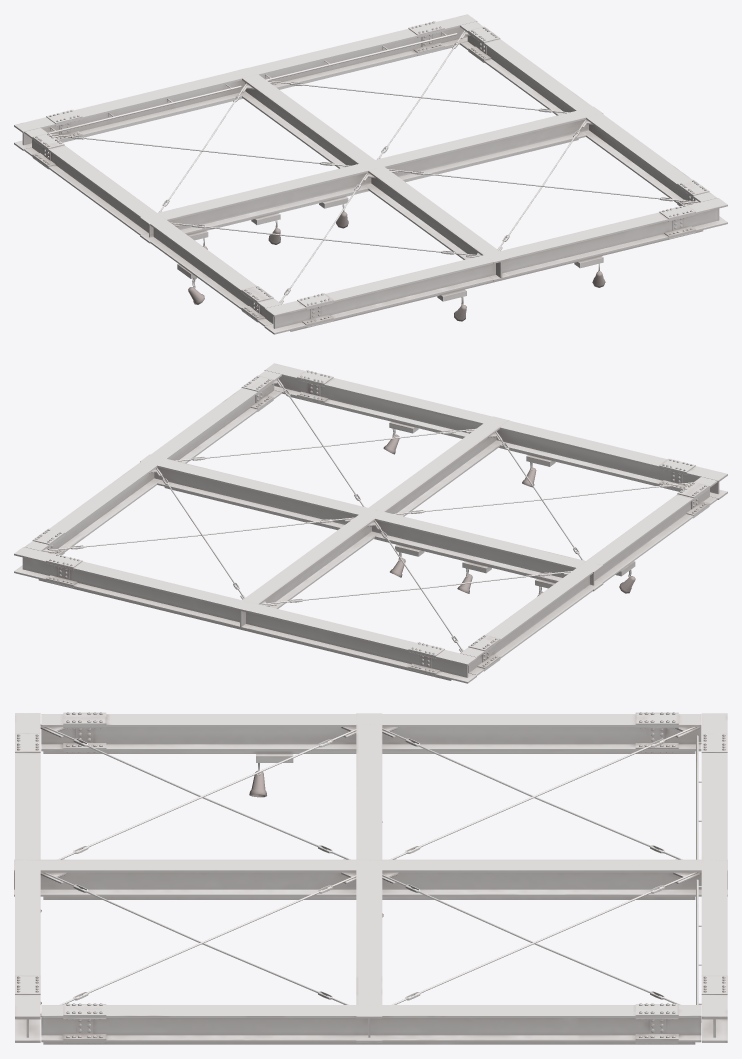
Rendered from beam.dae.
The picture shows the model from 3 angles, top to bottom: view 1: azimuth 30°, elevation 25°; view 2: azimuth 150°, elevation 25°; view 3: azimuth 270°, elevation 25°; orthographic projection. The views are drawn at different scales.
Visible parts, largest first — view 1: Beam_All; view 2: Beam_All; view 3: Beam_All.
Part boxes in pixels (<box>): Beam_All: <box>14,14,727,334</box>; Beam_All: <box>14,363,727,683</box>; Beam_All: <box>14,712,727,1044</box>.
Size of the model in its own units: 7.52 by 0.9306 by 7.48.
Materials: 3 (2 with a texture image).
